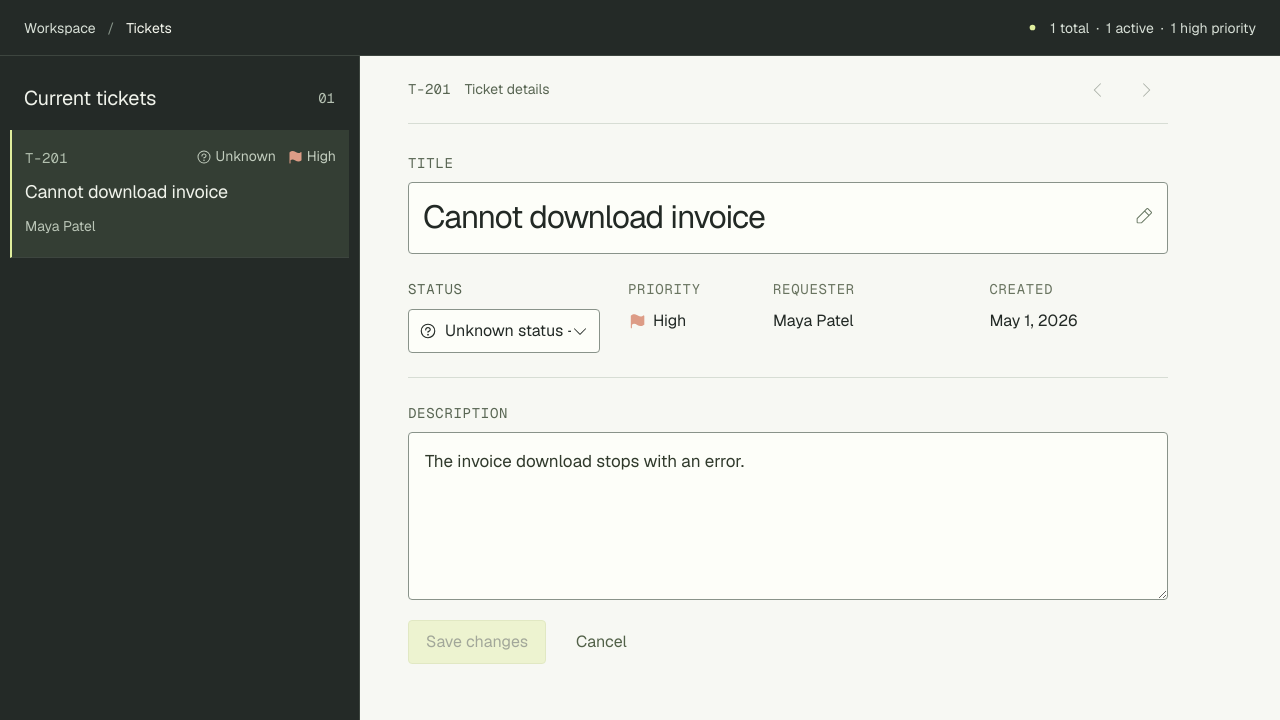
Test: App › requires a known status before saving an unexpected API status
The image size is (1280, 720).
Click the button with aria-label "View details for T-201".
click(180, 194)  # box [10,130,349,258]
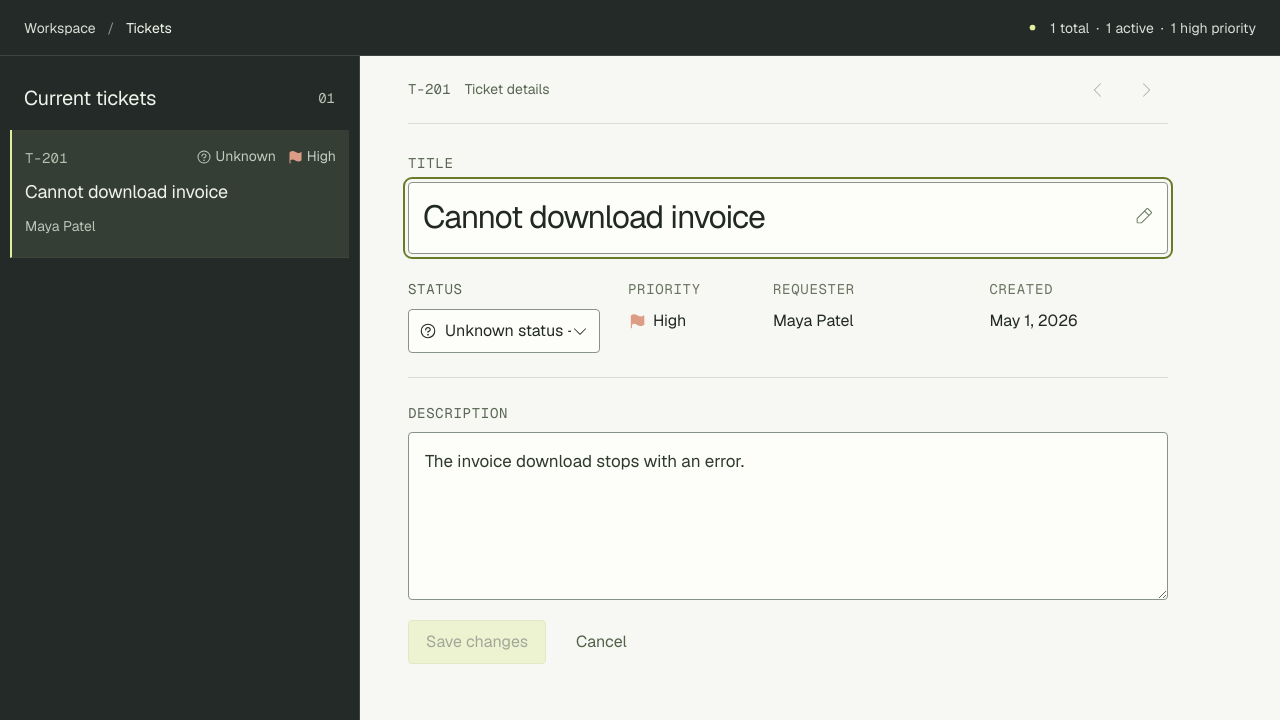
Expected: the text "Unknown" is shown, [196,146,276,167]
Expected: the button "Save changes" is disabled, [408,620,546,664]
Select "Pending" in the dropdown labelled "Status" at (517, 331), box [445,310,589,352]
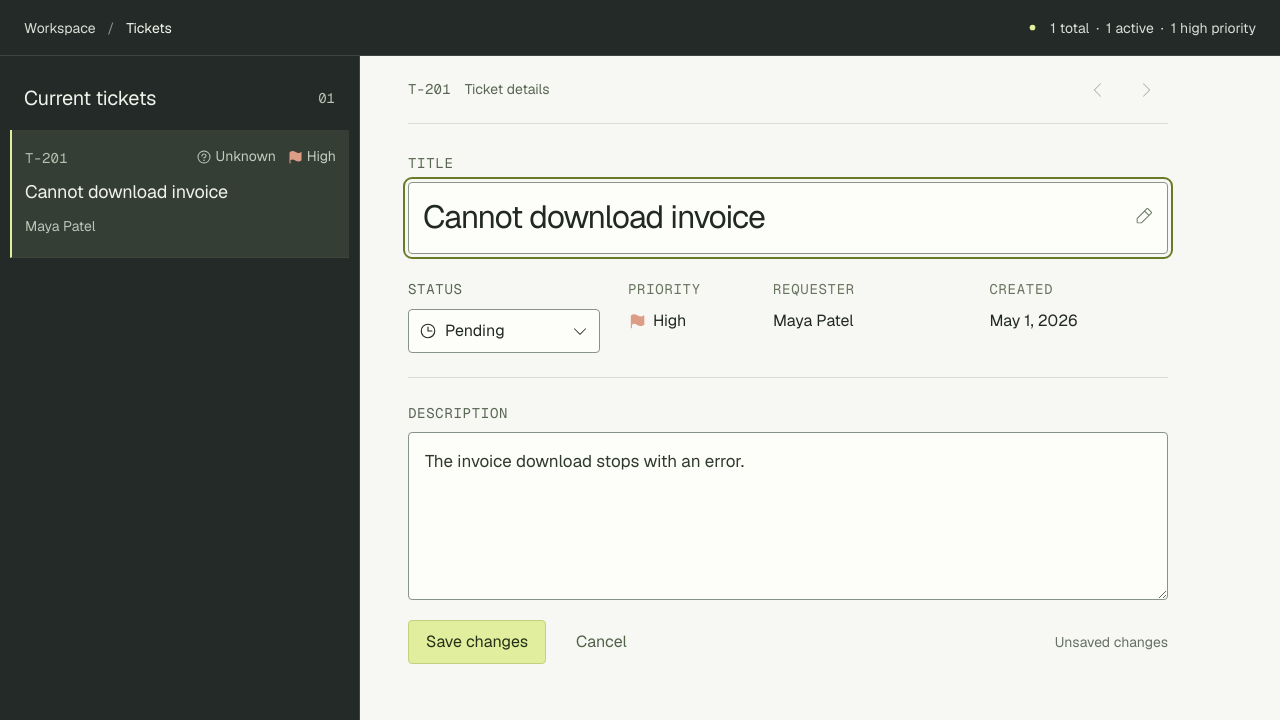
Now the button "Save changes" is enabled, box [408,620,546,664]
